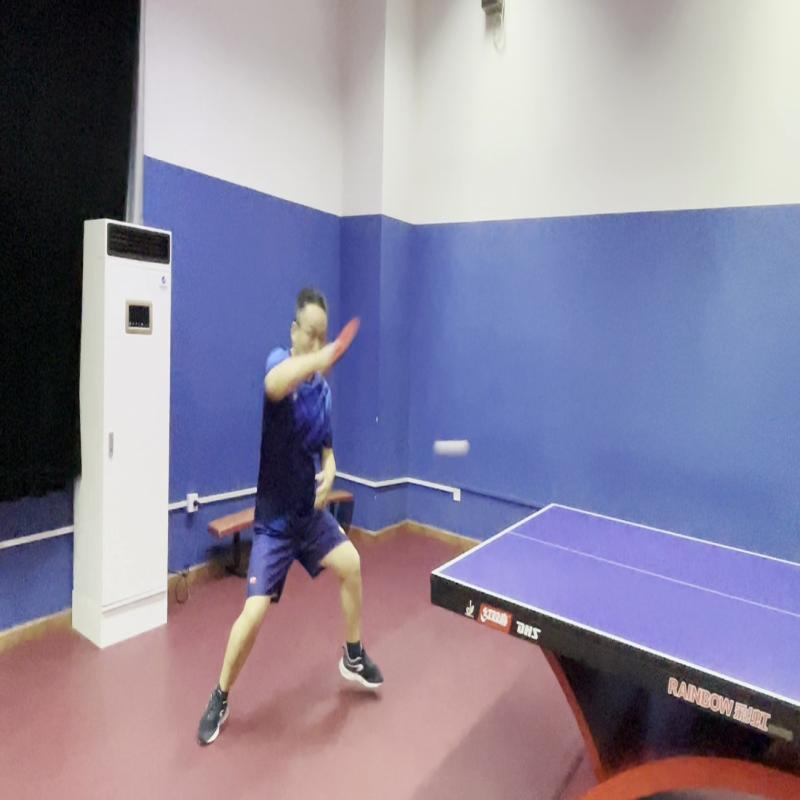bats: (330, 311, 366, 371)
